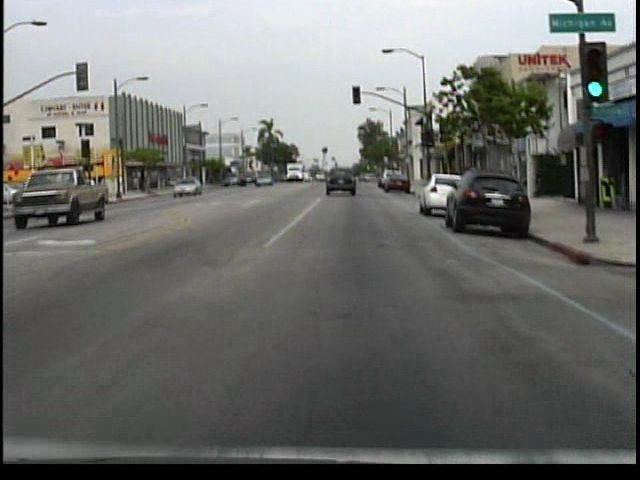person: (83, 180, 103, 207)
